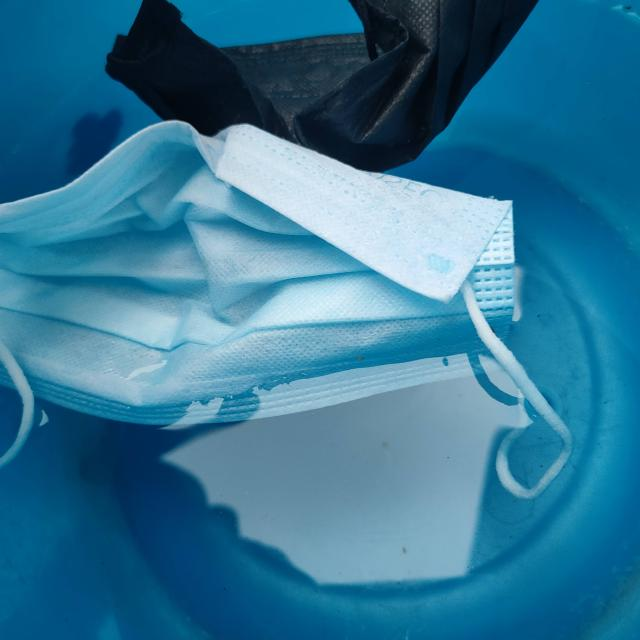litter: (14, 125, 566, 514), (76, 0, 541, 143)
